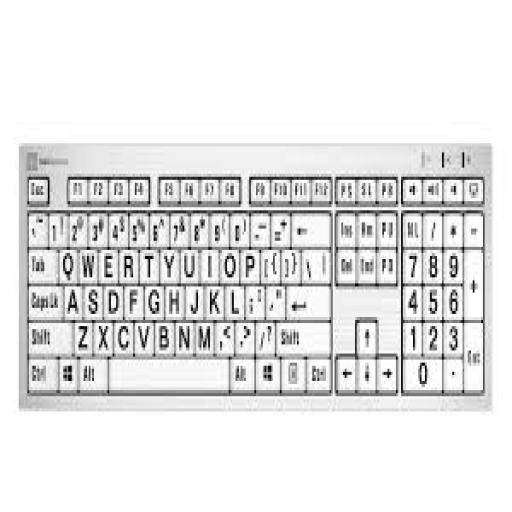keyboard: (15, 143, 497, 408)
